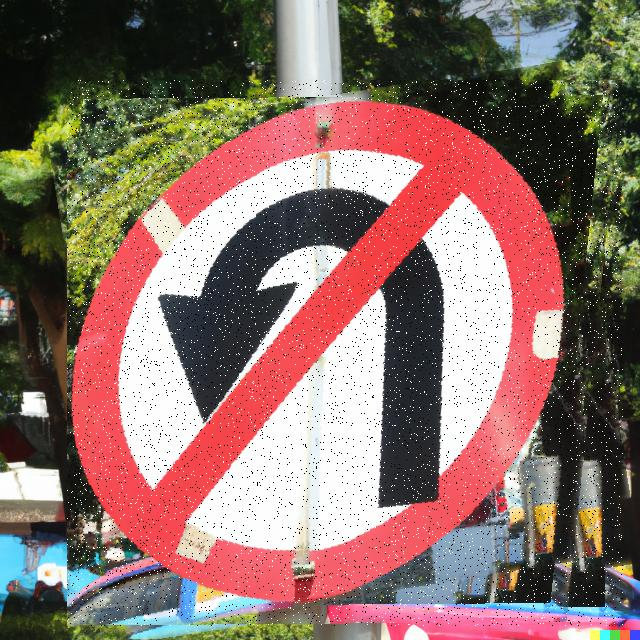no u turn: (67, 80, 623, 626)
